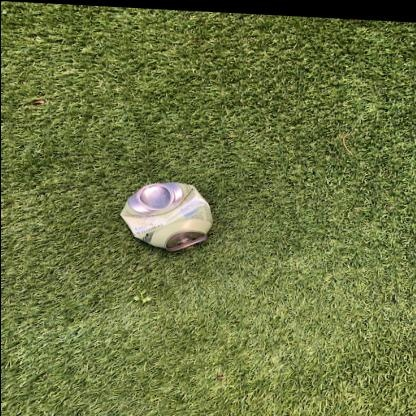trash: (121, 182, 211, 250)
